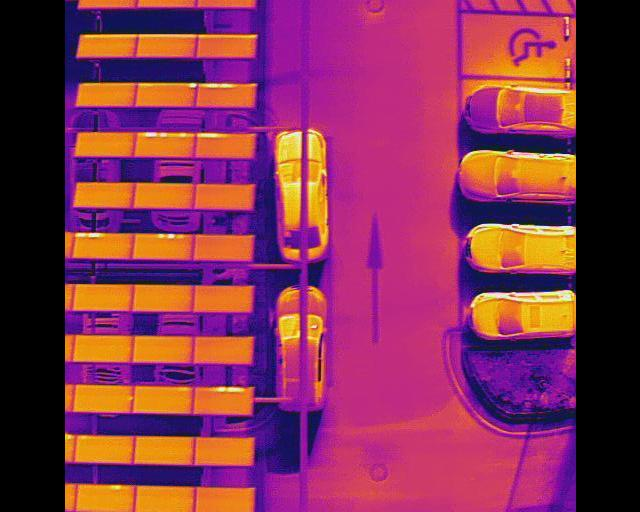Cell: (75, 483, 135, 512), (134, 83, 194, 106)
Cell-Multi: (131, 233, 194, 260), (134, 132, 195, 158)
No-Anomaly: (132, 384, 193, 415), (133, 437, 196, 466), (130, 283, 193, 312), (73, 435, 135, 464), (130, 335, 192, 363), (192, 437, 251, 466), (73, 384, 133, 412), (70, 284, 132, 311), (192, 285, 253, 312), (71, 334, 132, 361), (192, 336, 252, 363), (134, 486, 195, 512), (191, 184, 252, 210), (192, 234, 253, 260), (74, 182, 135, 207), (131, 184, 194, 208), (74, 132, 135, 156), (195, 487, 253, 512), (135, 35, 197, 58), (76, 83, 135, 107), (78, 34, 136, 57), (197, 35, 254, 58), (198, 0, 257, 7), (80, 0, 139, 7), (137, 0, 198, 6)
Unclassified: (191, 386, 252, 415), (72, 232, 132, 258), (192, 133, 254, 158), (195, 84, 254, 107)
